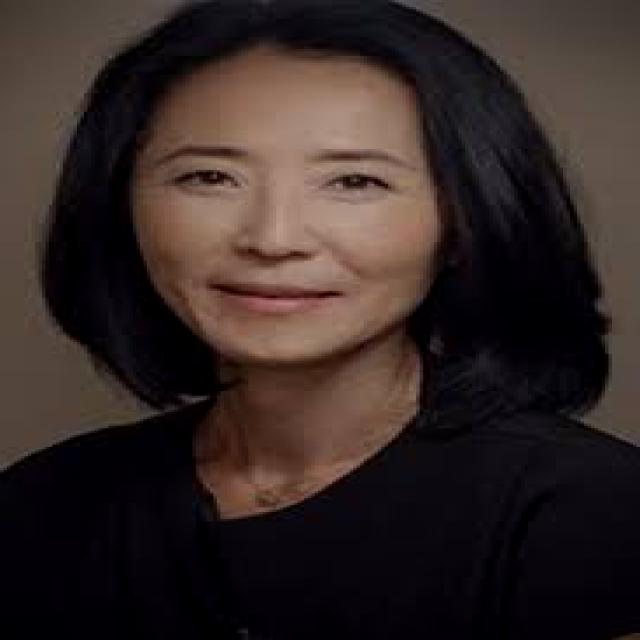normal_face: (88, 29, 484, 373)
